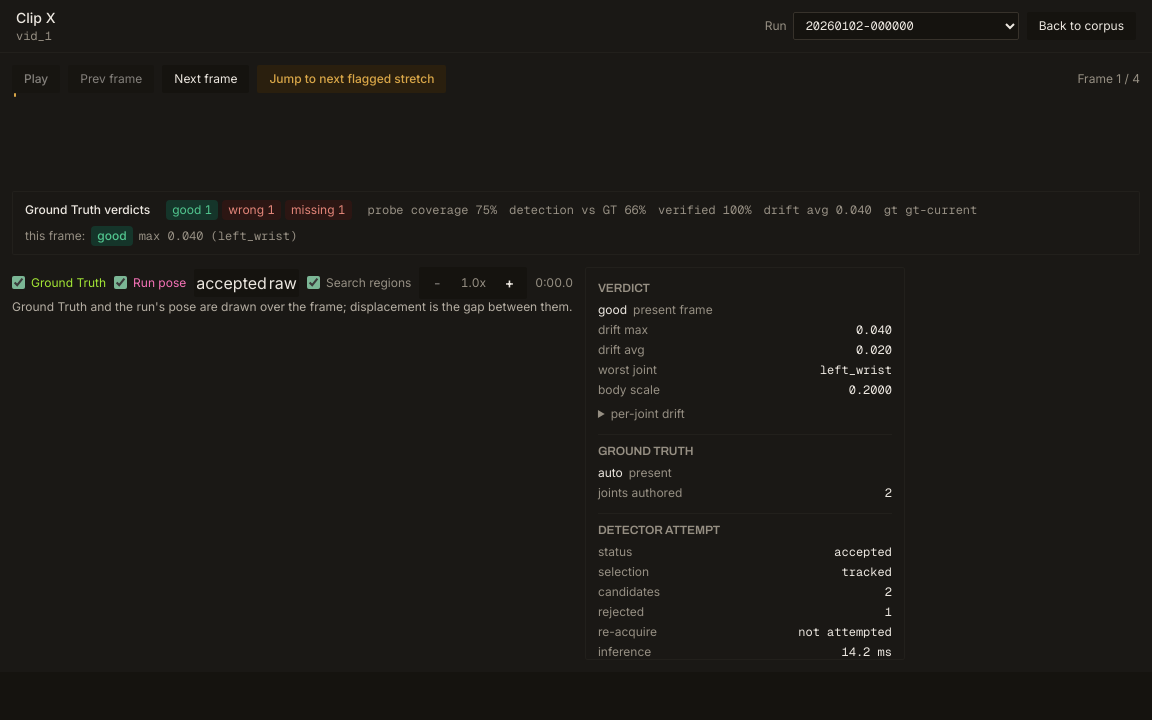
Test: RunReviewer › steps the verdict, the truth provenance and the attempt together
Expected: the dropdown named "Detection run" is shown, left=793, top=12, right=1019, bottom=40
Expected: the text with test id "verdict-chip" reads "good", left=598, top=302, right=627, bottom=317
Step 1. Click the button "Next frame" → {"x": 206, "y": 79}, box left=162, top=65, right=249, bottom=93
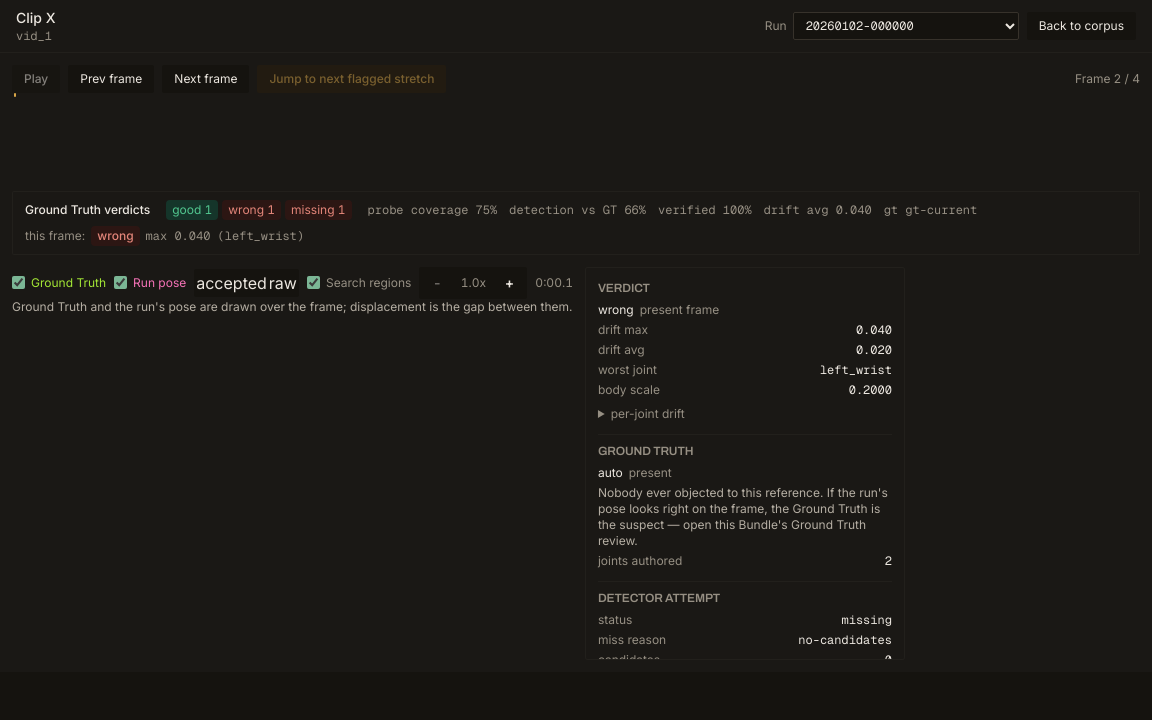
Expected: the text with test id "verdict-chip" reads "wrong", left=598, top=302, right=634, bottom=317
Expected: the text "no-candidates" is shown, left=798, top=632, right=892, bottom=648
Step 2. Click the button "Next frame" → {"x": 206, "y": 79}, box left=162, top=65, right=249, bottom=93
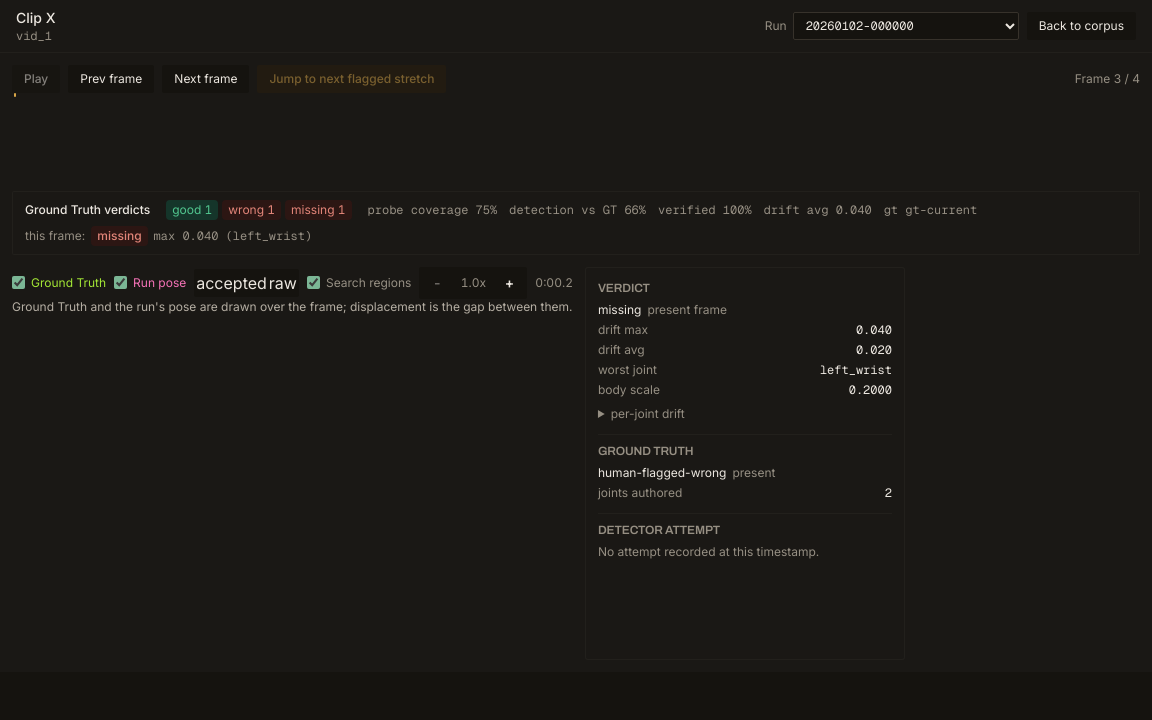
Expected: the text with test id "verdict-chip" reads "missing", left=598, top=302, right=641, bottom=317
Expected: the text with test id "truth-review" reads "human-flagged-wrong", left=598, top=465, right=726, bottom=480
